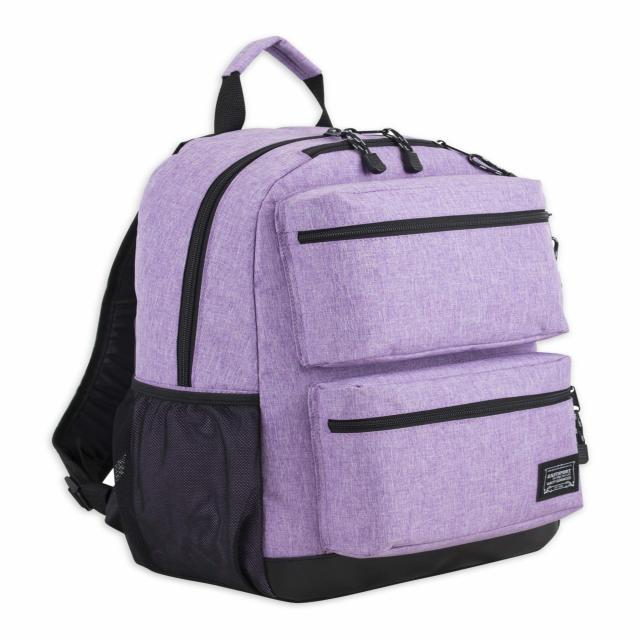Backpacks: (101, 119, 588, 604)
